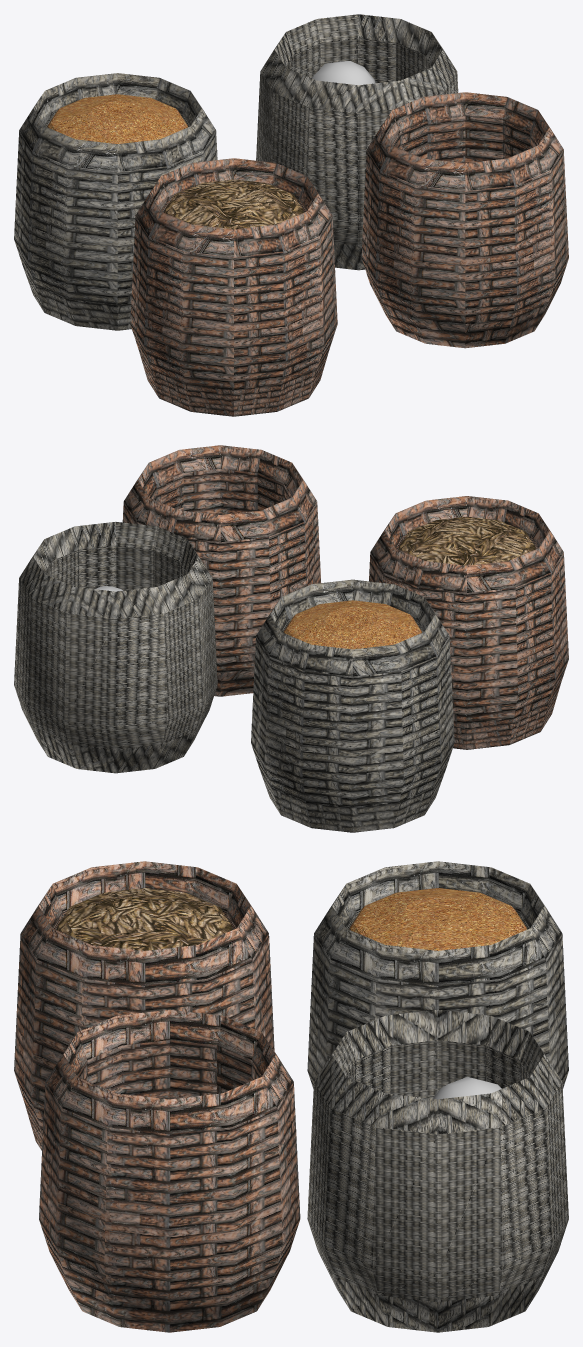
The model's file is Bakul.FBX.
3 renders of one model, top to bottom at view 1: azimuth 30°, elevation 25°; view 2: azimuth 150°, elevation 25°; view 3: azimuth 270°, elevation 25°, orthographic. The views are drawn at different scales.
Visible parts, largest first — view 1: Cylinder04, Cylinder01, Cylinder03, Cylinder02, Sphere03; view 2: Cylinder03, Cylinder02, Cylinder04, Cylinder01; view 3: Cylinder01, Cylinder02, Cylinder04, Cylinder03, Sphere03.
Boxes of the visible parts, x1,y1,x2,y2 form: Cylinder04: [130, 158, 337, 416]; Cylinder01: [361, 92, 568, 348]; Cylinder03: [14, 73, 217, 330]; Cylinder02: [256, 14, 458, 270]; Sphere03: [312, 61, 375, 85]; Cylinder03: [251, 579, 454, 832]; Cylinder02: [14, 521, 217, 773]; Cylinder04: [369, 496, 568, 749]; Cylinder01: [122, 445, 320, 696]; Cylinder01: [39, 1009, 300, 1332]; Cylinder02: [307, 1009, 568, 1332]; Cylinder04: [14, 861, 274, 1150]; Cylinder03: [307, 861, 568, 1088]; Sphere03: [433, 1077, 501, 1099].
Bounding box in the file's own units: 56.36 × 25.65 × 51.05.
